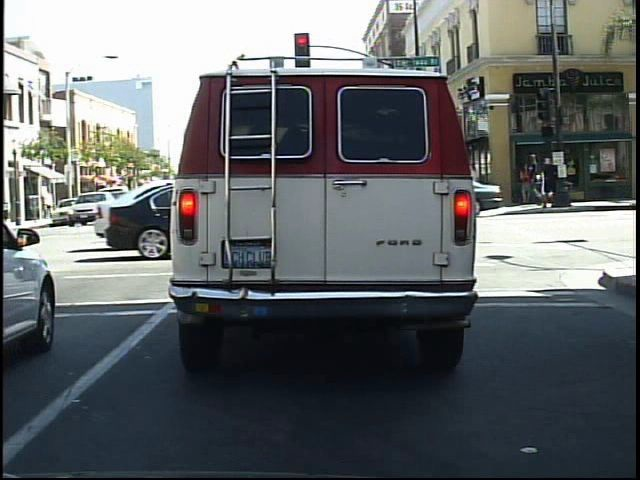person: (537, 154, 563, 212), (516, 157, 540, 209), (526, 150, 546, 207), (546, 159, 547, 208)
